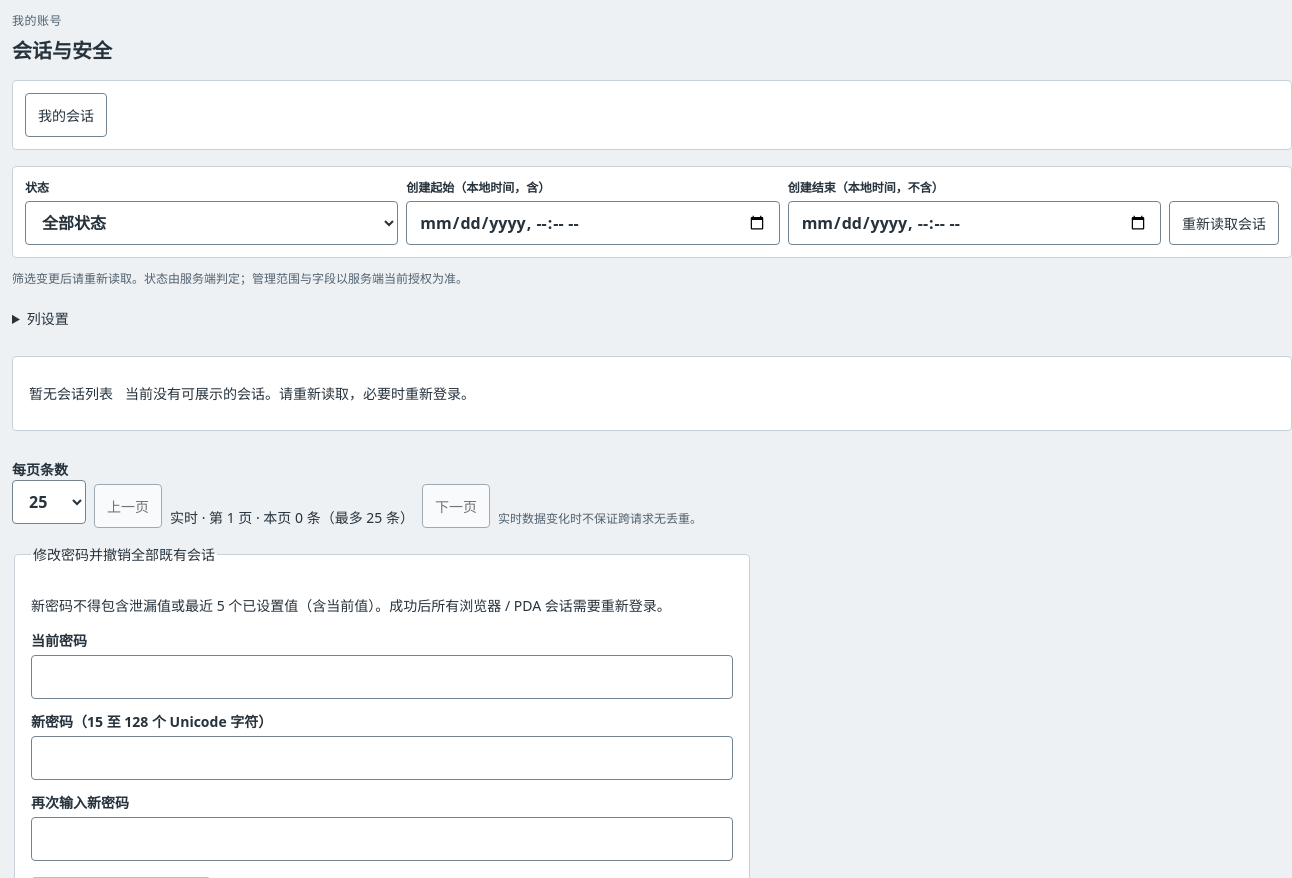
Test: rejects invalid ranges without sending requests
In the field with id "session-from": {"x": 593, "y": 223} 406,201 -> 780,245, type "2026-11-01T00:00"
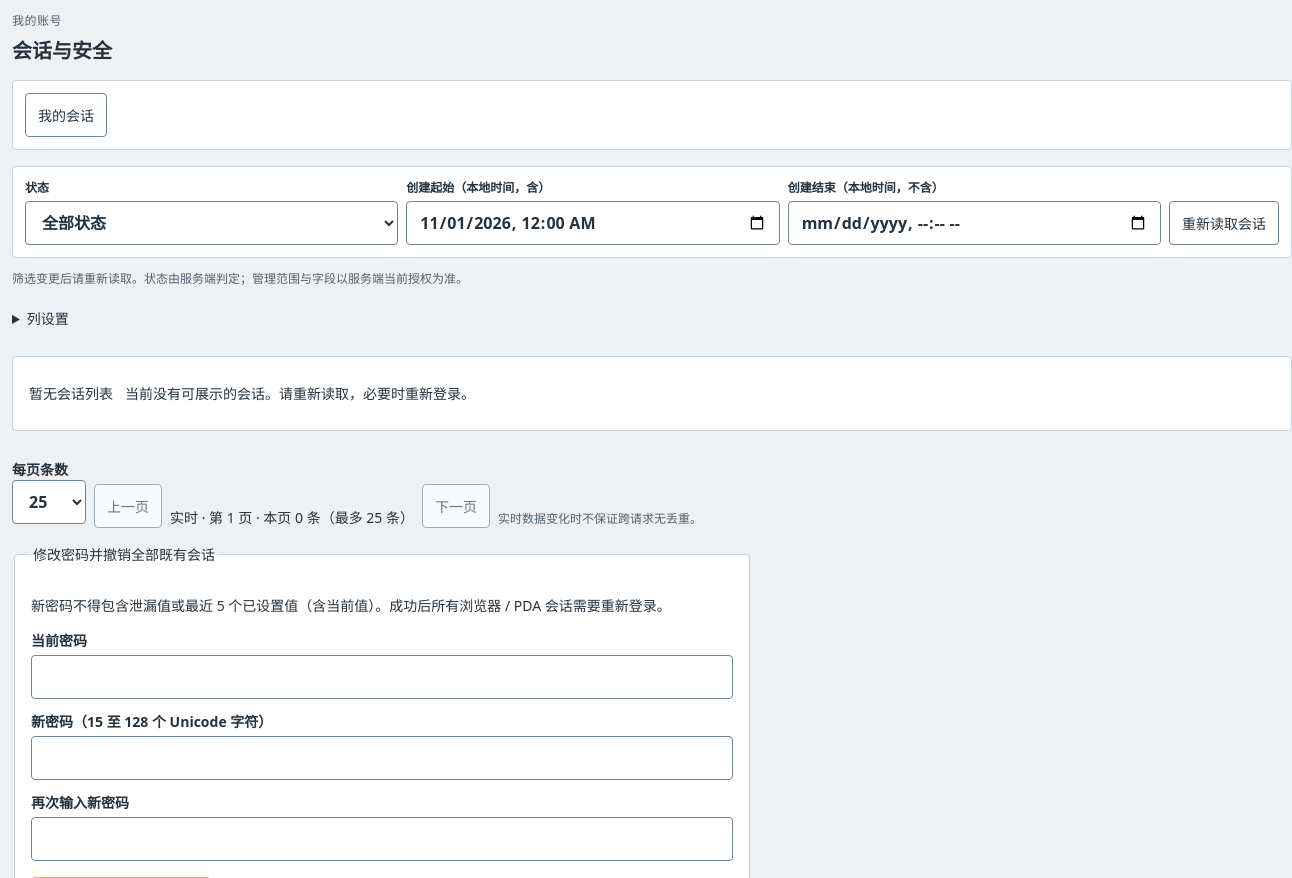
In the field with id "session-to": {"x": 974, "y": 223} 788,201 -> 1161,245, type "2026-10-01T00:00"
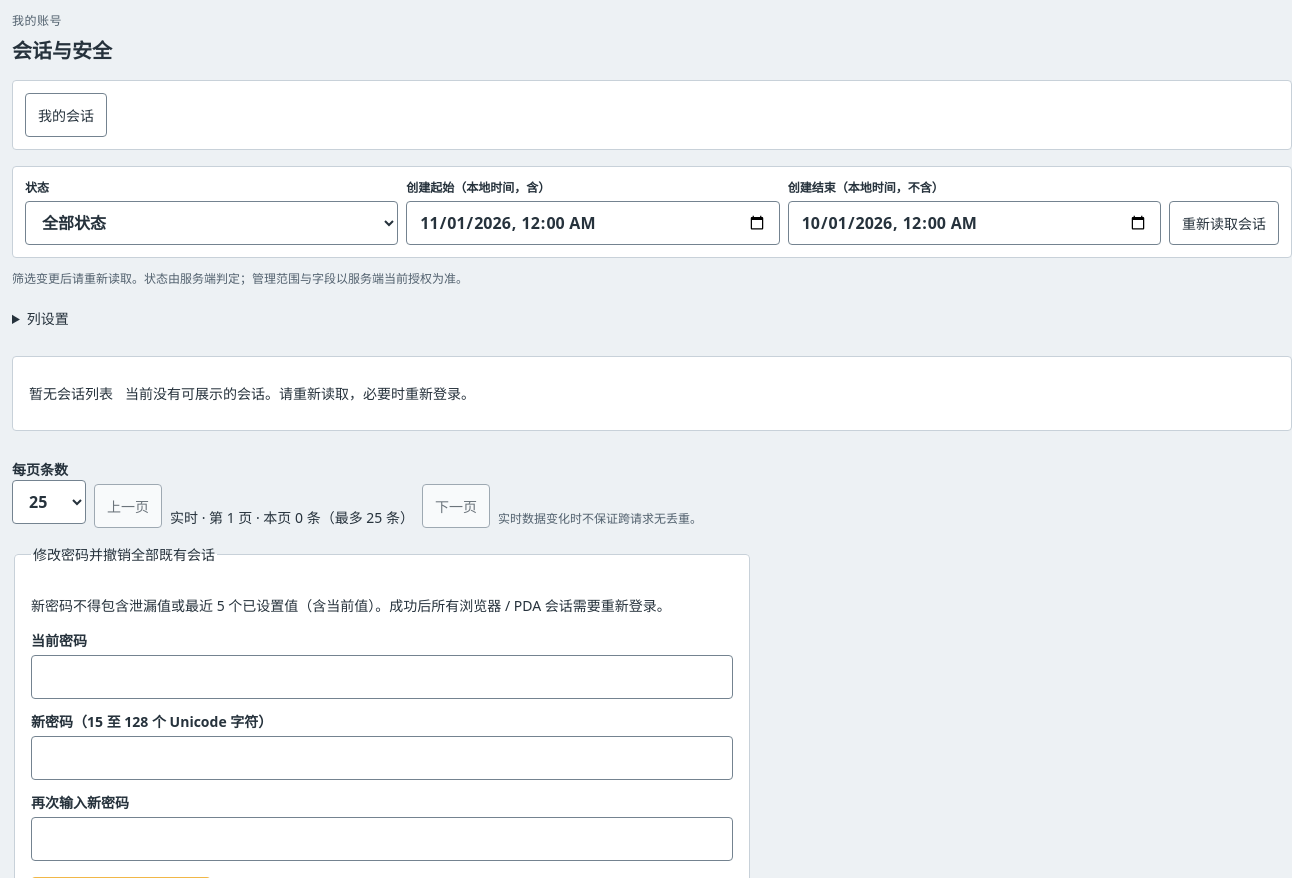
Submit the form with test id "session-filters", box 12,166 -> 1291,258
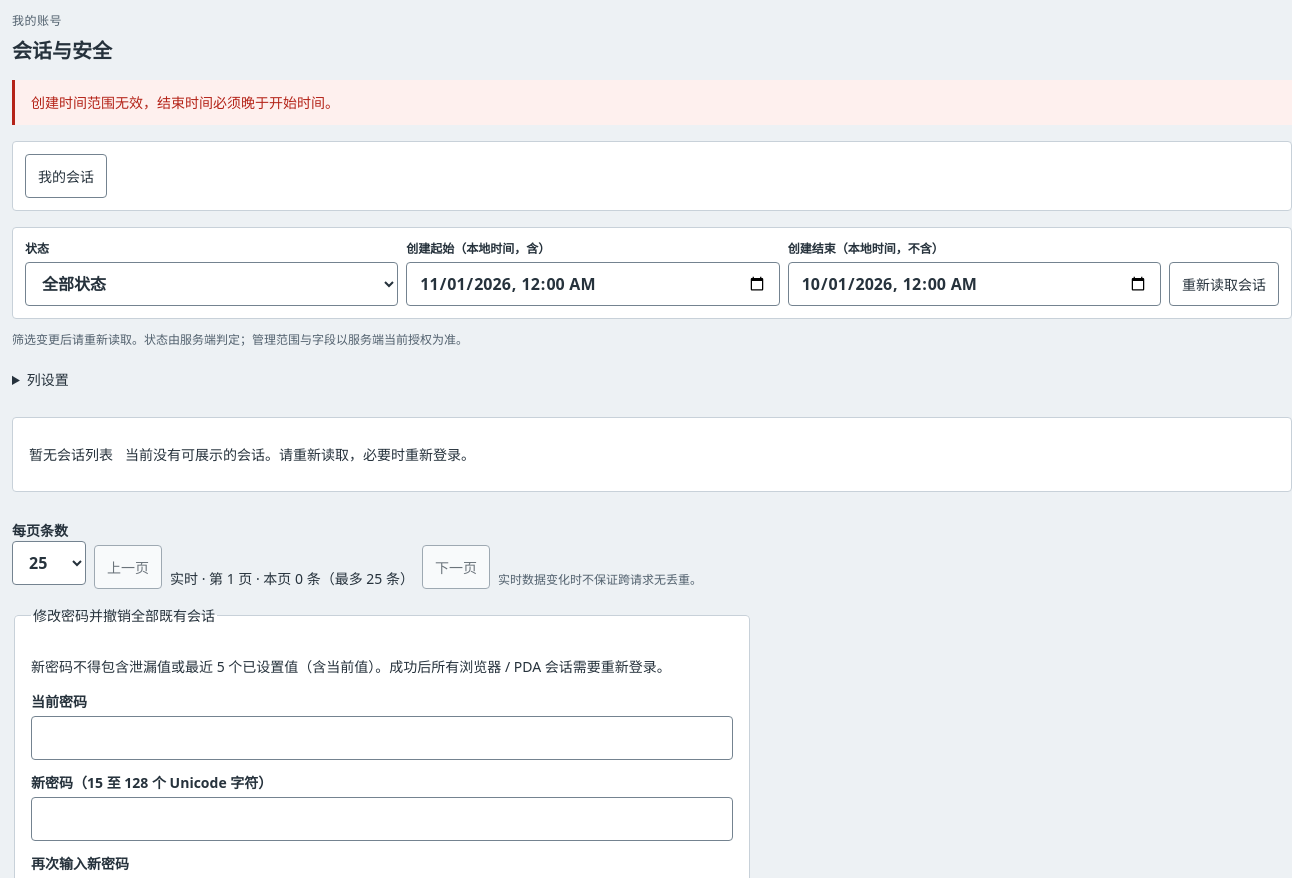
Check: the message "创建时间范围无效，结束时间必须晚于开始时间。" is shown, box 12,80 -> 1291,125
